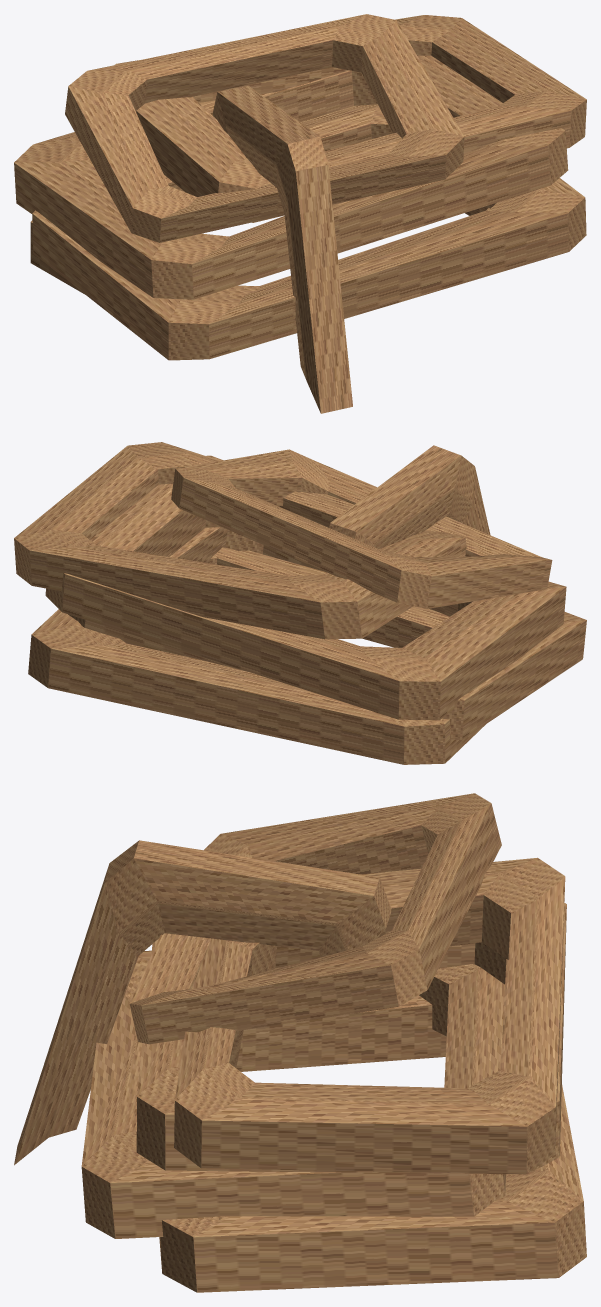
Rendered from rope.fbx.
3 views of the same model, one above another, from view 1: azimuth 30°, elevation 25°; view 2: azimuth 150°, elevation 25°; view 3: azimuth 270°, elevation 25° (orthographic). The views are drawn at different scales.
Visible parts, largest first — view 1: rope; view 2: rope; view 3: rope.
Part boxes in pixels (x1,y1,x2,y2): rope: (14,14,586,413); rope: (14,442,586,764); rope: (14,793,586,1292).
Bounding box in the file's own units: 222 × 114 × 182.
